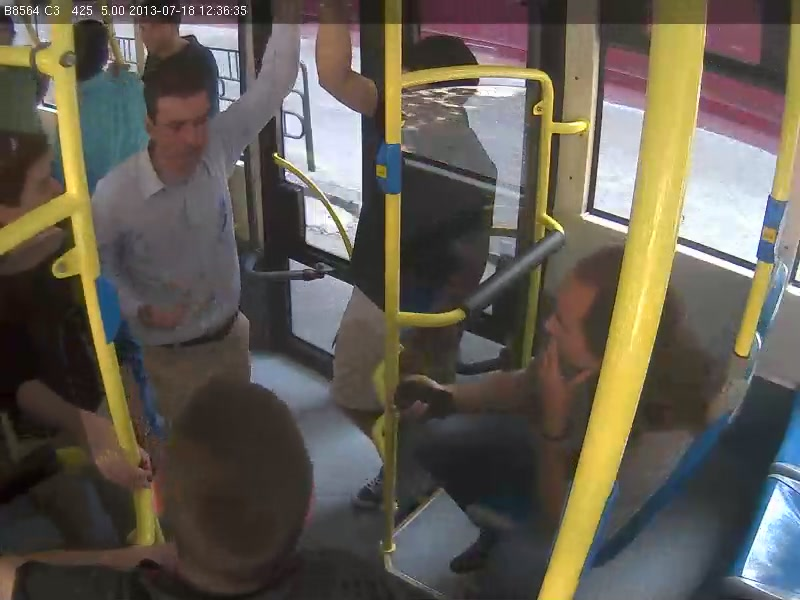Head: (151, 373, 313, 588), (529, 231, 622, 391), (148, 61, 218, 184), (0, 133, 69, 222), (397, 23, 486, 71), (70, 17, 109, 87), (133, 11, 189, 51)
